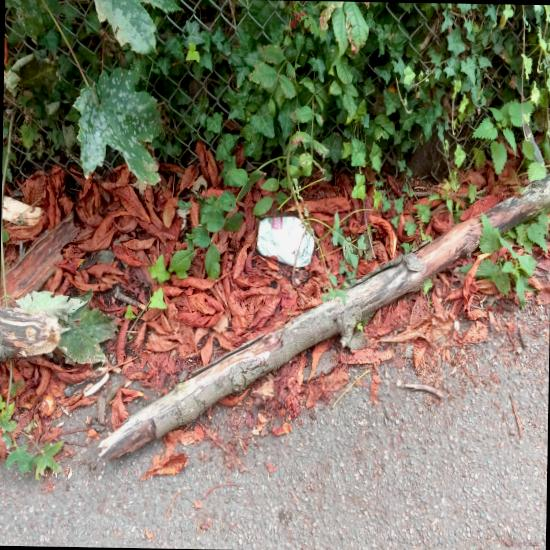Drink can: (256, 216, 314, 267)
